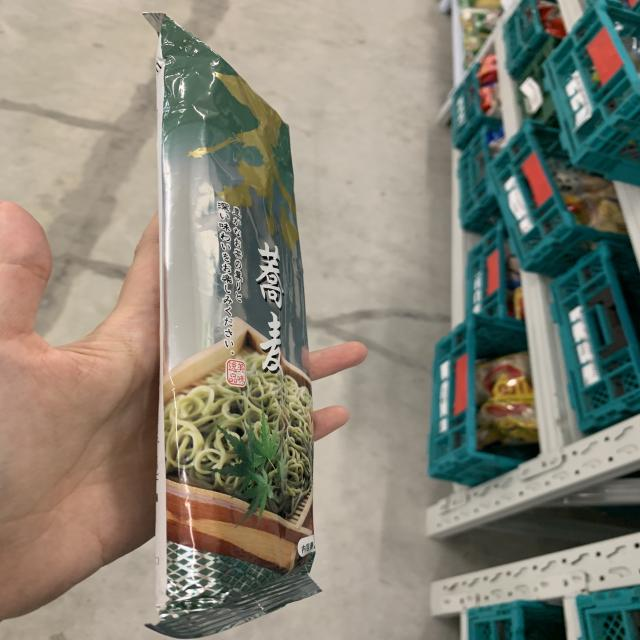object_name: (160, 30, 312, 606)
